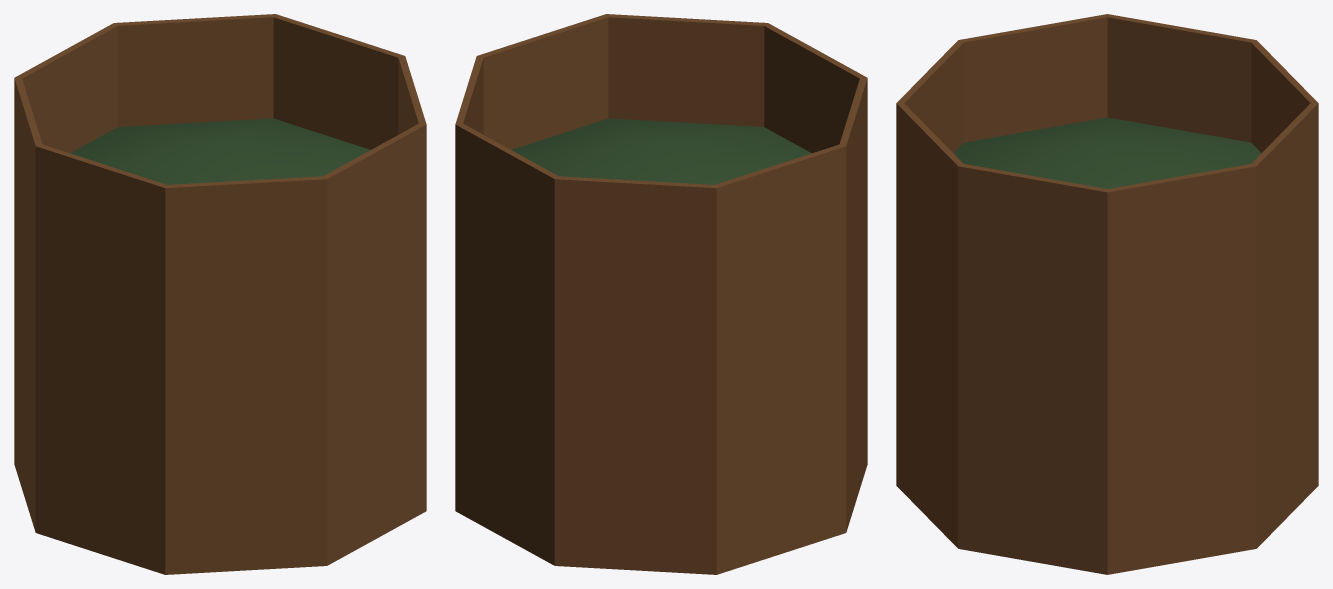
File: rainforest_timbo_basket.fbx
The picture shows the model from 3 angles, left to right: view 1: azimuth 30°, elevation 25°; view 2: azimuth 150°, elevation 25°; view 3: azimuth 270°, elevation 25°; orthographic projection.
Visible parts, largest first — view 1: pCylinder1; view 2: pCylinder1; view 3: pCylinder1.
Part boxes in pixels (box(x1,y1,x2,y2)): pCylinder1: box(14, 14, 426, 574); pCylinder1: box(455, 14, 867, 574); pCylinder1: box(896, 14, 1318, 574).
Size of the model in its own units: 2 by 2 by 2.
